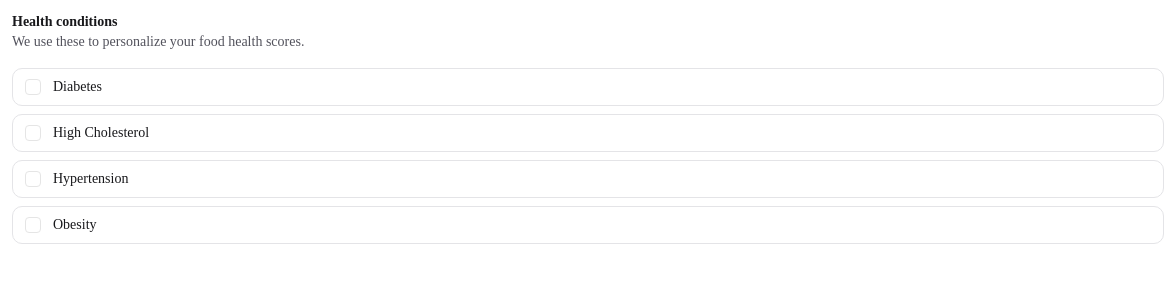
Test case: ConditionPicker › shows an error when the supabase session has no access token
Click the checkbox named "diabetes": [33, 87] box [25,79,41,95]
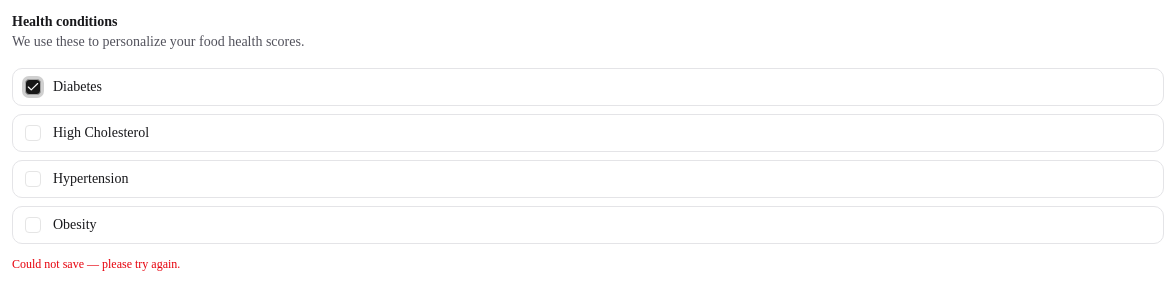
Expected: the element with test id "condition-picker-status" shows "Could not save", [12,257,180,271]
